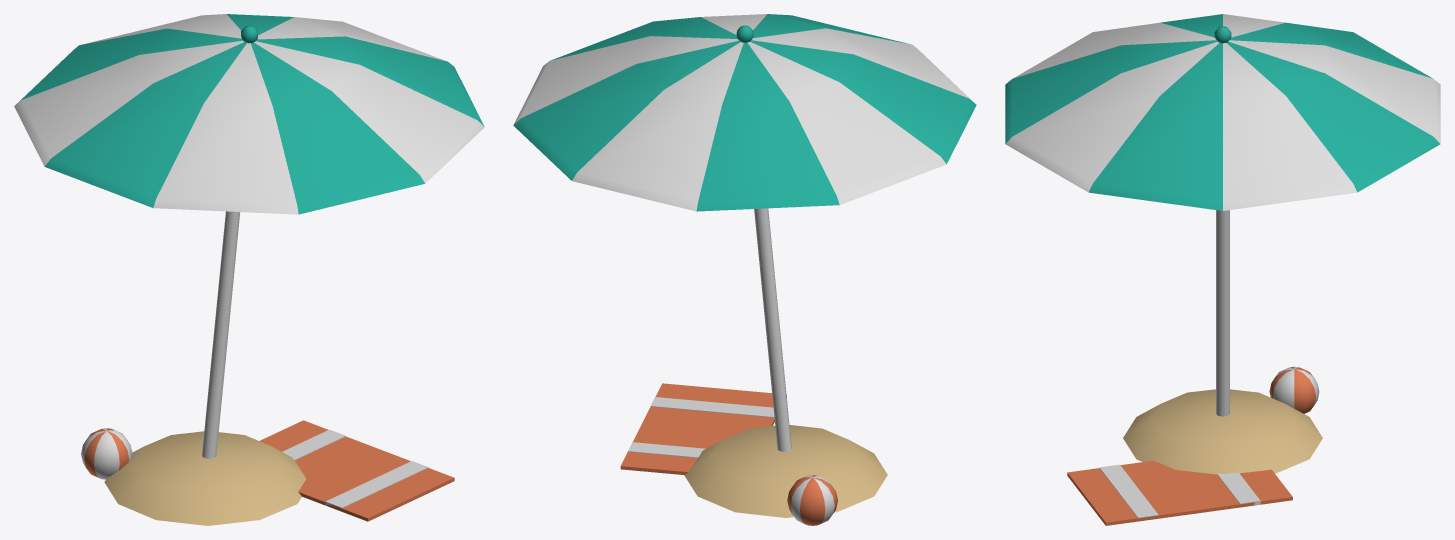
The model's file is tropic-deco3.glb.
3 renders of one model, left to right at view 1: azimuth 30°, elevation 25°; view 2: azimuth 150°, elevation 25°; view 3: azimuth 270°, elevation 25°, orthographic. The views are drawn at different scales.
Parts seen in each view (by area): view 1: tropic-deco3; view 2: tropic-deco3; view 3: tropic-deco3.
Boxes of the visible parts, box(x1,y1,x2,y2) form: tropic-deco3: box(14, 14, 484, 525); tropic-deco3: box(513, 14, 976, 525); tropic-deco3: box(1005, 14, 1440, 525).
Size of the model in its own units: 2.56 by 2.7 by 2.43.
